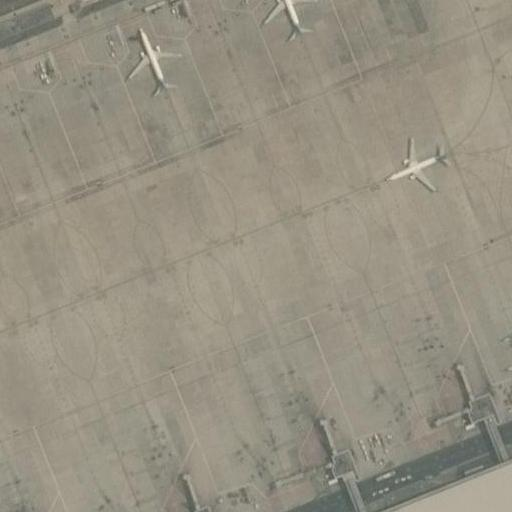Aircraft: (120, 21, 182, 91), (384, 139, 451, 191), (250, 0, 314, 35), (500, 324, 512, 380)
